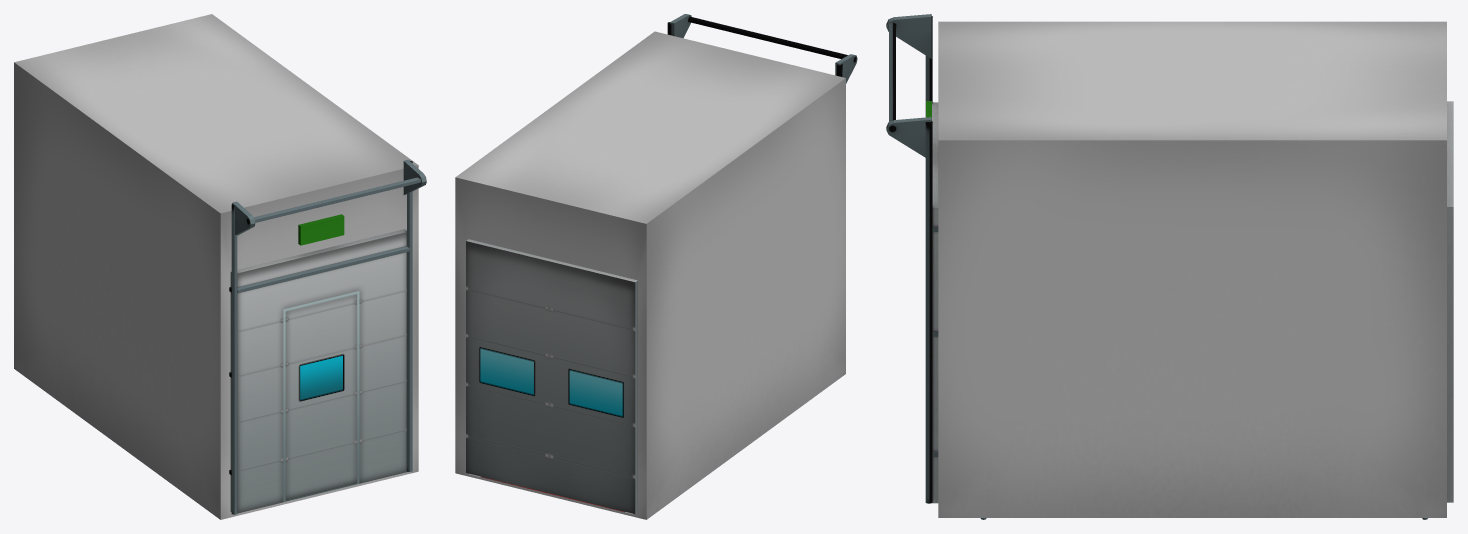
File: Doorroom.fbx
3 renders of one model, left to right at view 1: azimuth 30°, elevation 25°; view 2: azimuth 150°, elevation 25°; view 3: azimuth 270°, elevation 25°, orthographic. The views are drawn at different scales.
Visible parts, largest first — view 1: room, door01; view 2: room, Door02; view 3: room, Door02, door01.
Part boxes in pixels (left/top/right/bottom): room: left=14, top=14, right=426, bottom=519; door01: left=230, top=229, right=408, bottom=513; room: left=455, top=14, right=857, bottom=519; Door02: left=466, top=239, right=637, bottom=513; room: left=886, top=14, right=1446, bottom=519; Door02: left=1447, top=101, right=1453, bottom=502; door01: left=932, top=102, right=938, bottom=503.
Bounding box in the file's own units: 14.94 × 23.18 × 30.12.
Materials: 1 (1 with a texture image).
